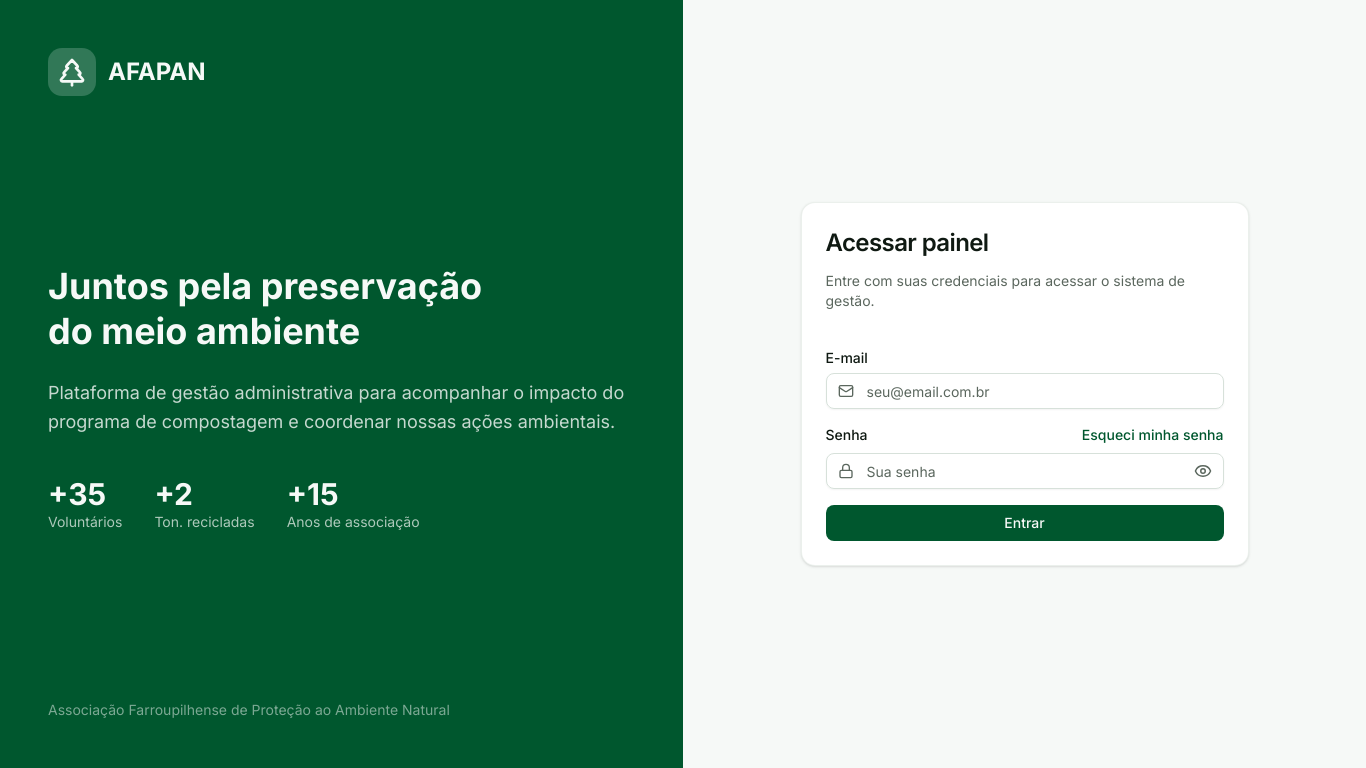
LoginForm › permite mostrar e ocultar a senha
The width and height of the screenshot is (1366, 768).
Click the button named "Mostrar senha": (1202, 471) [1194,462,1212,480]
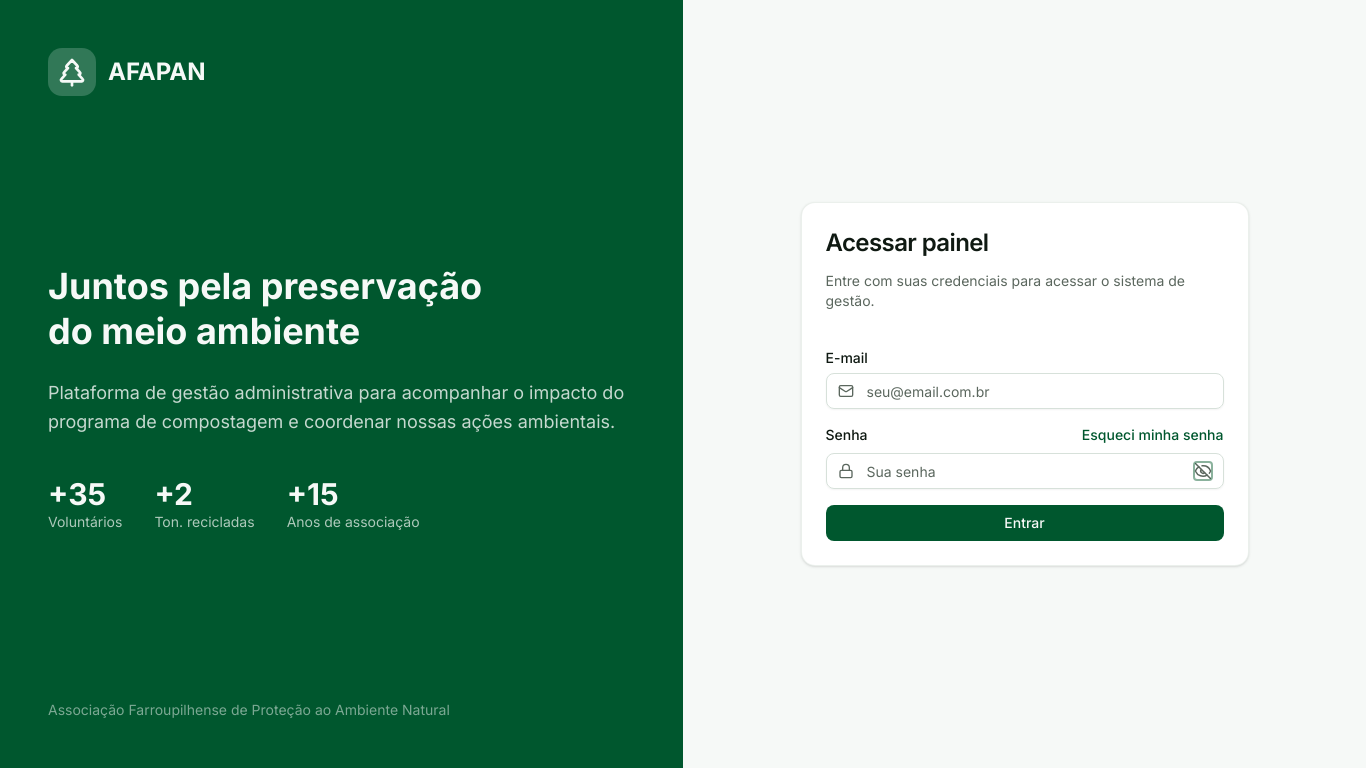
Expected: the button named "Ocultar senha" is pressed
Click the button named "Ocultar senha": (1202, 471) [1194,462,1212,480]
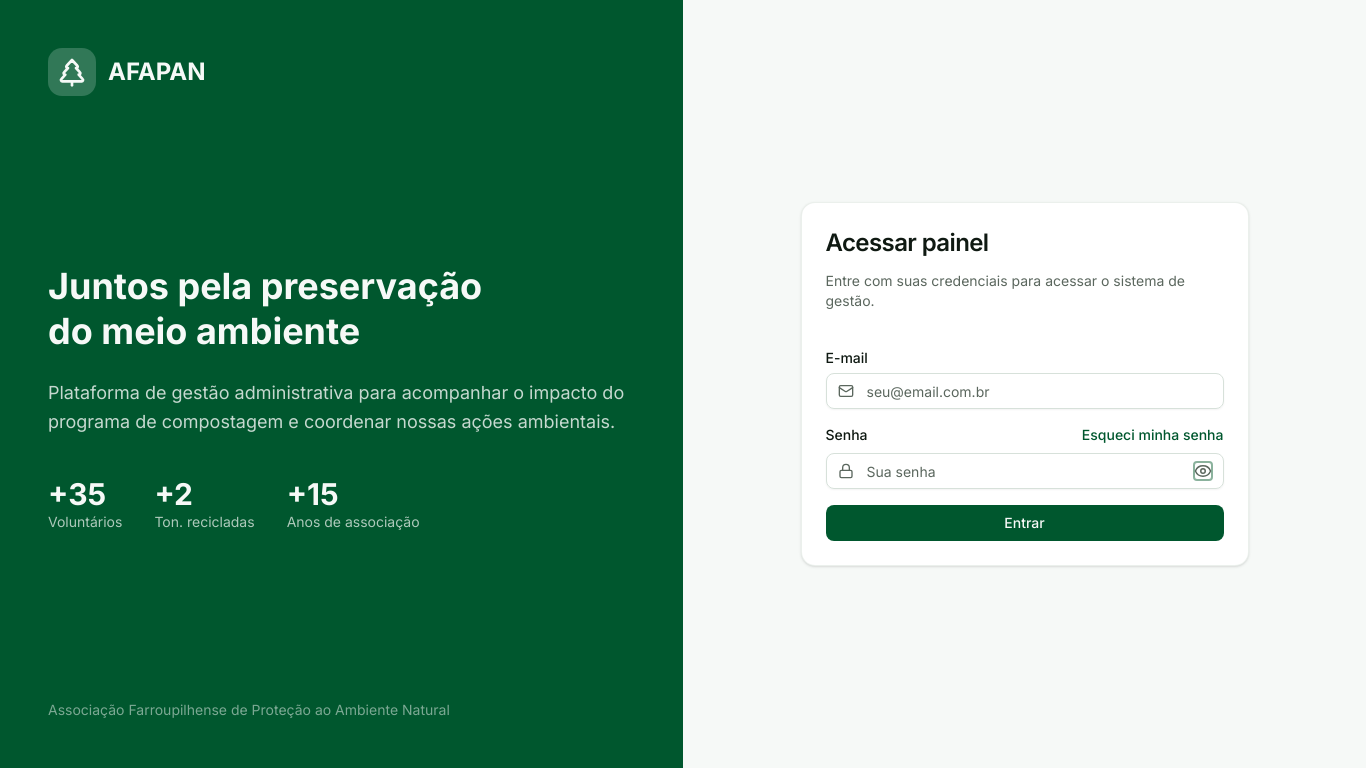
Expected: the button named "Mostrar senha" is not pressed, [1194,462,1212,480]
